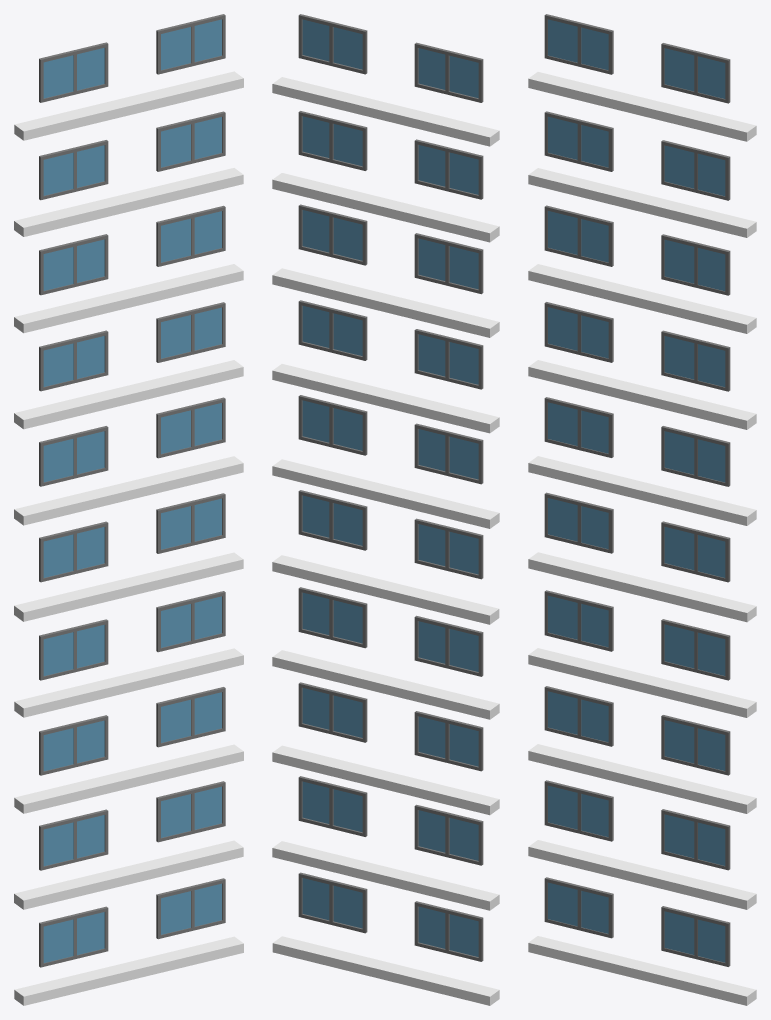
File: haiCuaSoGiuaNho.glb
The picture shows the model from 3 angles, left to right: view 1: azimuth 30°, elevation 25°; view 2: azimuth 150°, elevation 25°; view 3: azimuth 330°, elevation 25°; orthographic projection.
Visible parts, largest first — view 1: Box051, Box047, Box045, Box043, Box052, Box049, Box048, Box050, Box046, Box044, Box227, Box223 (+38 smaller); view 2: Box051, Box049, Box044, Box043, Box052, Box050, Box048, Box047, Box046, Box045, Box233, Box227 (+38 smaller); view 3: Box048, Box046, Box045, Box050, Box049, Box047, Box044, Box052, Box051, Box043, Box233, Box237 (+38 smaller).
Part boxes in pixels (x1=…): Box051: x1=14, y1=840, x2=243, y2=909; Box047: x1=14, y1=456, x2=243, y2=525; Box045: x1=14, y1=264, x2=243, y2=333; Box043: x1=14, y1=71, x2=243, y2=140; Box052: x1=14, y1=936, x2=243, y2=1005; Box049: x1=14, y1=648, x2=243, y2=717; Box048: x1=14, y1=552, x2=243, y2=621; Box050: x1=14, y1=744, x2=243, y2=813; Box046: x1=14, y1=360, x2=243, y2=429; Box044: x1=14, y1=168, x2=243, y2=236; Box227: x1=43, y1=624, x2=104, y2=675; Box223: x1=43, y1=239, x2=104, y2=290; Box051: x1=272, y1=841, x2=499, y2=910; Box049: x1=272, y1=650, x2=499, y2=719; Box044: x1=272, y1=173, x2=499, y2=242; Box043: x1=272, y1=77, x2=499, y2=146; Box052: x1=272, y1=936, x2=499, y2=1005; Box050: x1=272, y1=745, x2=499, y2=815; Box048: x1=272, y1=555, x2=499, y2=624; Box047: x1=272, y1=459, x2=499, y2=528; Box046: x1=272, y1=364, x2=499, y2=433; Box045: x1=272, y1=268, x2=499, y2=337; Box233: x1=302, y1=210, x2=362, y2=260; Box227: x1=418, y1=621, x2=478, y2=671; Box048: x1=528, y1=552, x2=756, y2=622; Box046: x1=528, y1=360, x2=756, y2=429; Box045: x1=528, y1=264, x2=756, y2=333; Box050: x1=528, y1=744, x2=756, y2=813; Box049: x1=528, y1=648, x2=756, y2=717; Box047: x1=528, y1=456, x2=756, y2=525; Box044: x1=528, y1=168, x2=756, y2=237; Box052: x1=528, y1=936, x2=756, y2=1005; Box051: x1=528, y1=840, x2=756, y2=909; Box043: x1=528, y1=72, x2=756, y2=141; Box233: x1=664, y1=239, x2=725, y2=291; Box237: x1=664, y1=624, x2=725, y2=675.
Size of the model in its own units: 7.17 by 29.4 by 0.5918.
